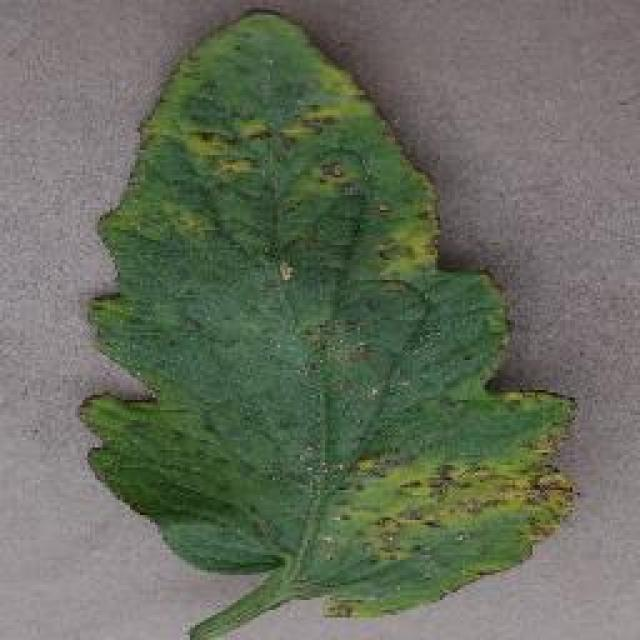Tomato___Bacterial_spot: (63, 13, 589, 638)
